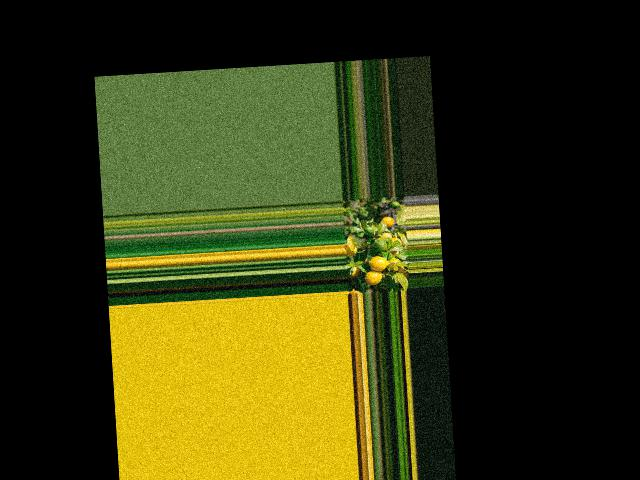lemon: (377, 213, 395, 228)
